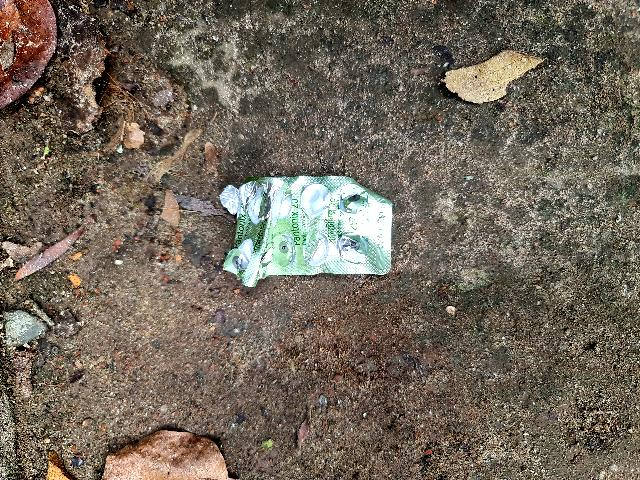medicine: (214, 160, 406, 298)
